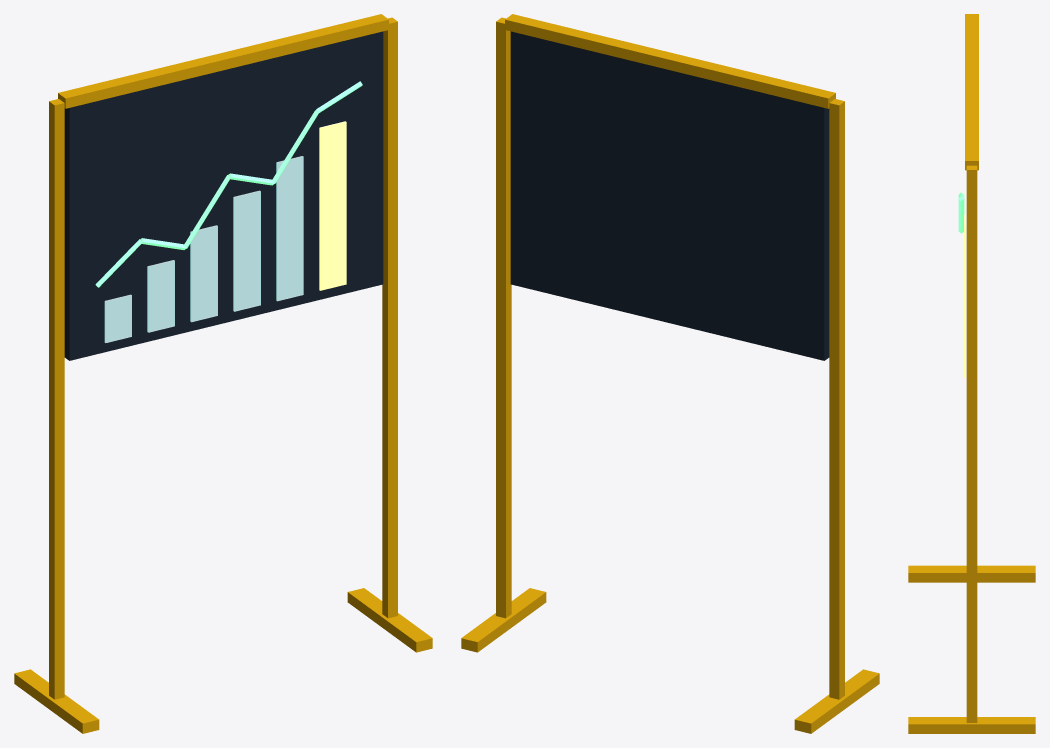
The model's file is station_buffer_ausstattung_2_3.glb.
3 views of the same model, side by side, from view 1: azimuth 30°, elevation 25°; view 2: azimuth 150°, elevation 25°; view 3: azimuth 270°, elevation 25° (orthographic). The views are drawn at different scales.
Visible parts, largest first — view 1: station_buffer_ausstattung_2_3; view 2: station_buffer_ausstattung_2_3; view 3: station_buffer_ausstattung_2_3.
Part boxes in pixels (bbox=[...]): station_buffer_ausstattung_2_3: bbox=[14, 14, 432, 733]; station_buffer_ausstattung_2_3: bbox=[461, 14, 879, 733]; station_buffer_ausstattung_2_3: bbox=[908, 14, 1035, 733].
Size of the model in its own units: 1.06 by 1.76 by 0.36.
